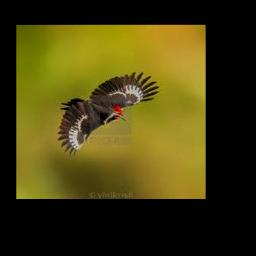Woodpecker: (57, 72, 160, 156)
